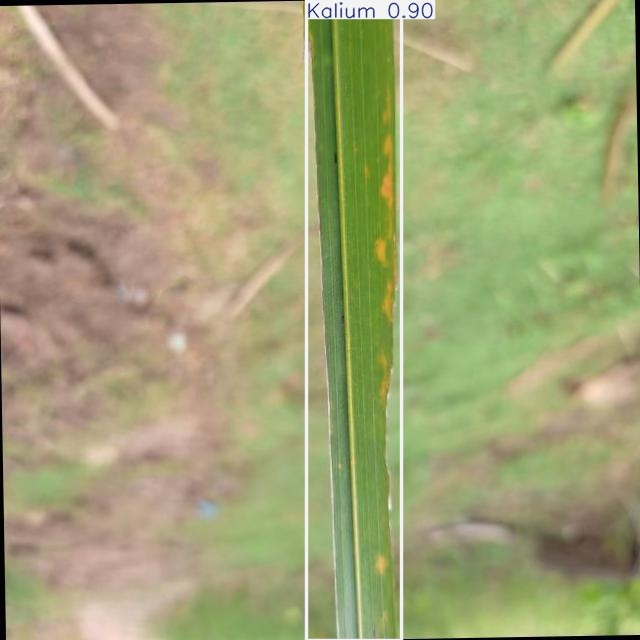Kalium: (307, 0, 401, 640)
